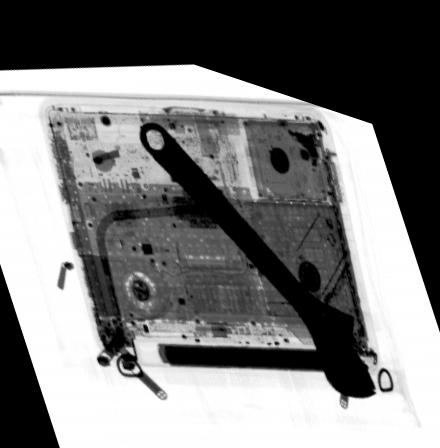Wrench: (136, 110, 377, 376)
